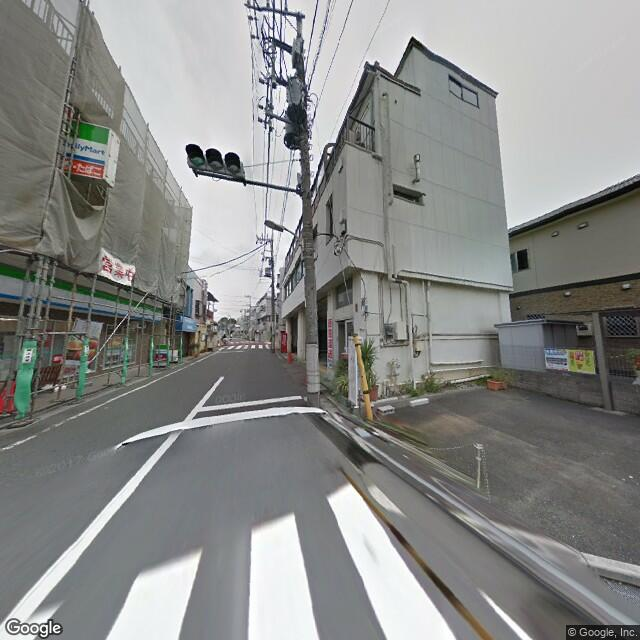family_mart: (1, 259, 168, 329), (64, 120, 113, 174)
